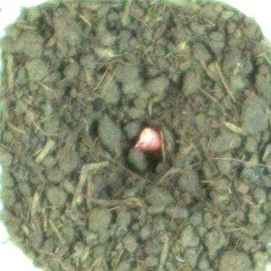pepper seed: (52, 49, 215, 203)
